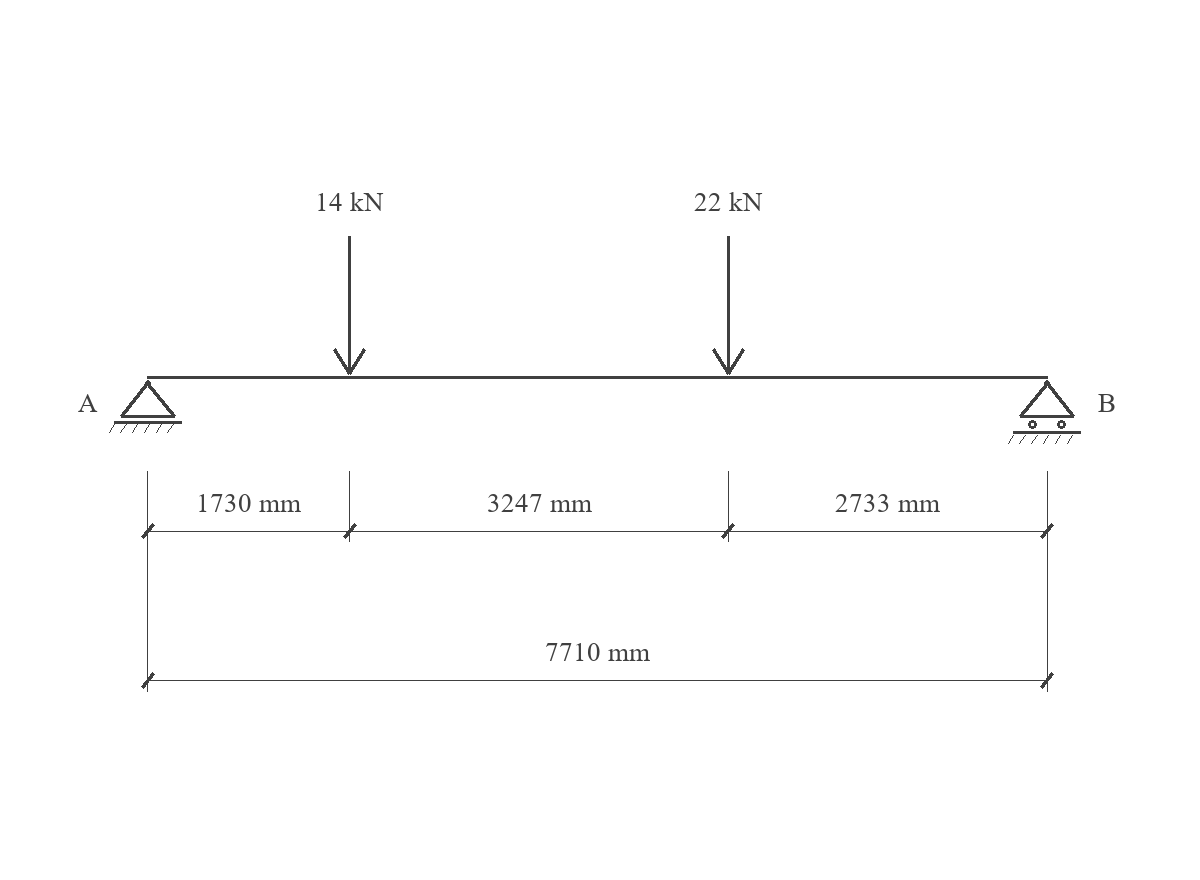pin_support: (109, 380, 182, 433)
point_load: (333, 236, 366, 375), (712, 236, 745, 375)
roller_support: (1008, 380, 1081, 444)
